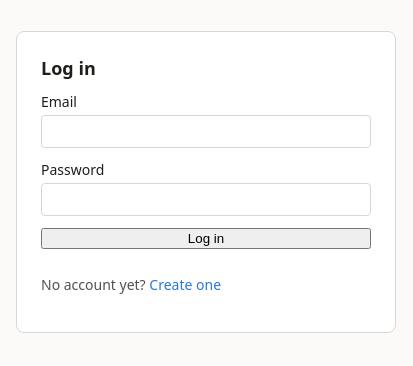
LoginGate › says why a login failed
The width and height of the screenshot is (413, 366).
In the field labelled "Email": (206, 132) [41,115,371,148], type "otto@example.test"
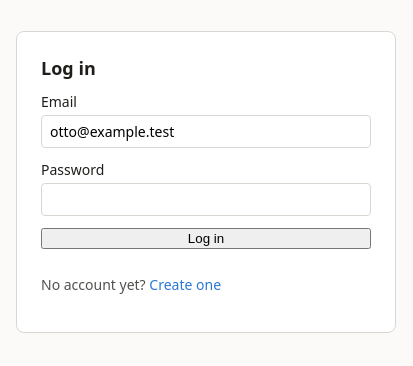
In the password field labelled "Password": (206, 200) [41,183,371,216], type "wrong-pass"
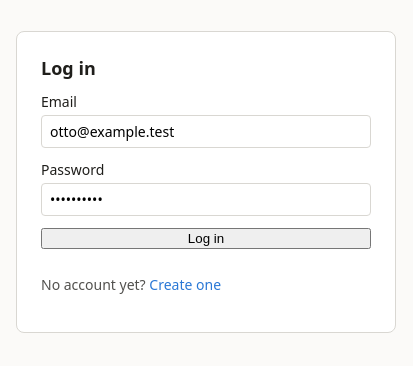
Click the button "Log in": click(206, 238) [41,228,371,249]
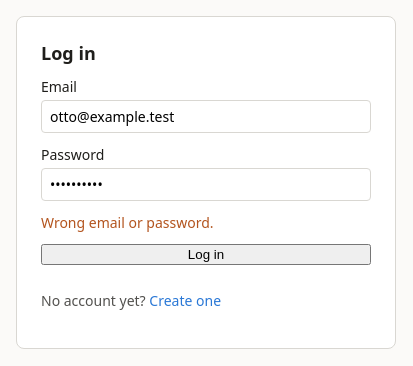
Expected: the message shows "Wrong email or password", [41,212,214,232]
